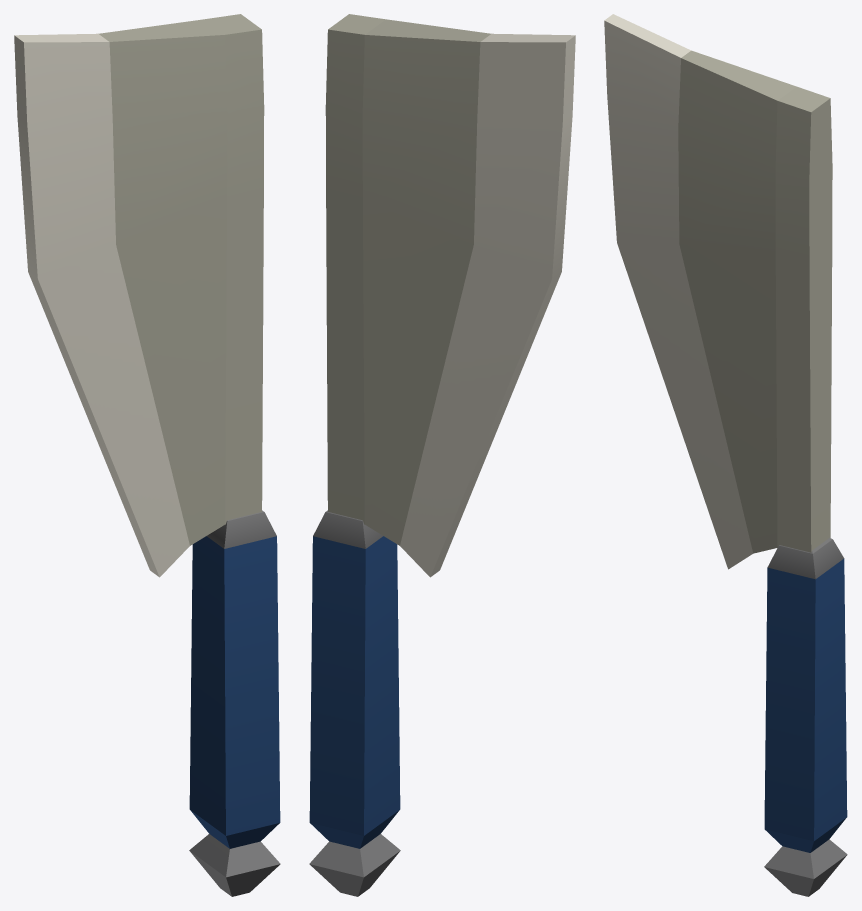
File: Weapon_J.fbx
3 renders of one model, left to right at view 1: azimuth 30°, elevation 25°; view 2: azimuth 150°, elevation 25°; view 3: azimuth 330°, elevation 25°, orthographic. The views are drawn at different scales.
Visible parts, largest first — view 1: Weapon_J; view 2: Weapon_J; view 3: Weapon_J.
Part boxes in pixels (x1,y1,x2,y2): Weapon_J: (14, 14, 280, 896); Weapon_J: (309, 14, 575, 896); Weapon_J: (604, 14, 847, 896).
Bounding box in the file's own units: 26.64 × 94.58 × 7.
